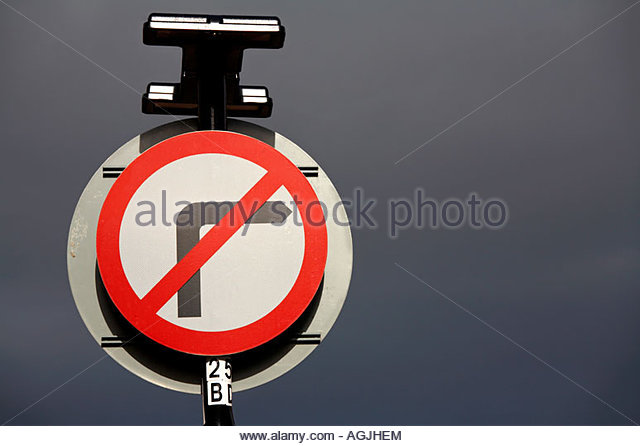No_right_turn: (96, 131, 328, 354)
